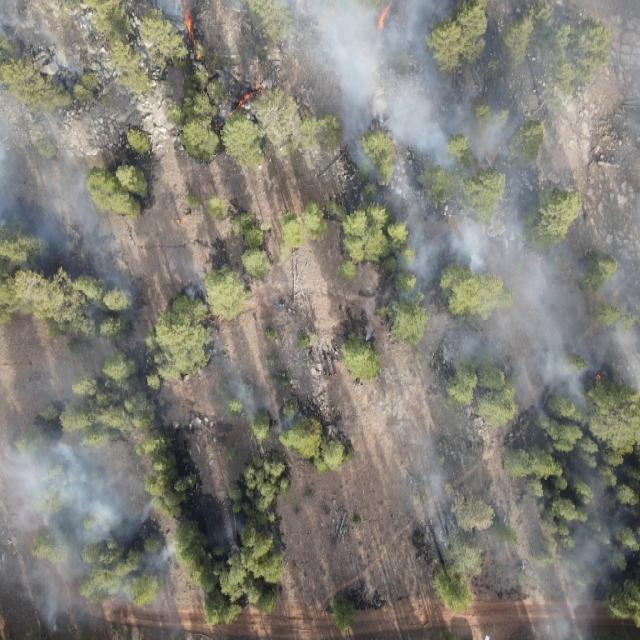fire: (227, 84, 264, 118), (181, 8, 205, 59), (488, 136, 508, 166), (374, 4, 394, 28), (594, 372, 604, 382), (212, 121, 220, 131)
smoke: (0, 0, 143, 321), (241, 0, 640, 115), (427, 457, 640, 640), (318, 110, 640, 222), (0, 434, 173, 640), (376, 220, 640, 348), (434, 344, 640, 455), (222, 366, 298, 442), (399, 425, 453, 525), (149, 0, 220, 38), (172, 256, 206, 310), (208, 516, 249, 553)
